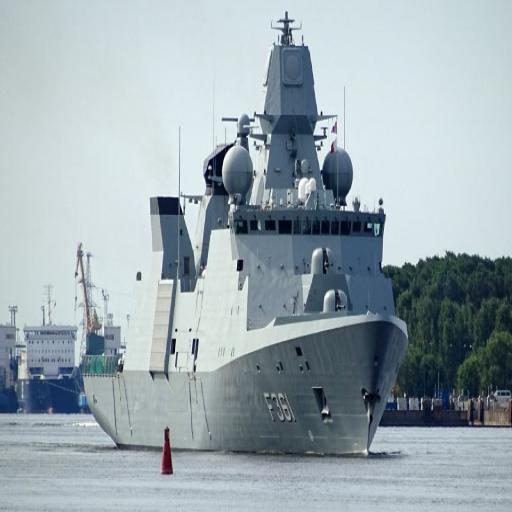Fragata: (75, 4, 413, 465)
